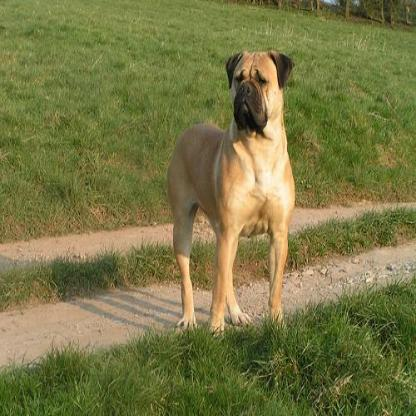bull_mastiff: (166, 49, 293, 344)
